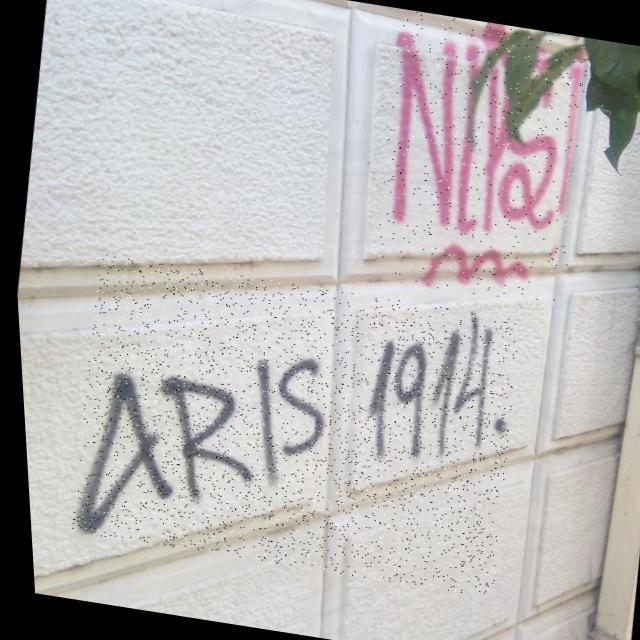-: (52, 253, 530, 598), (358, 9, 602, 308)
